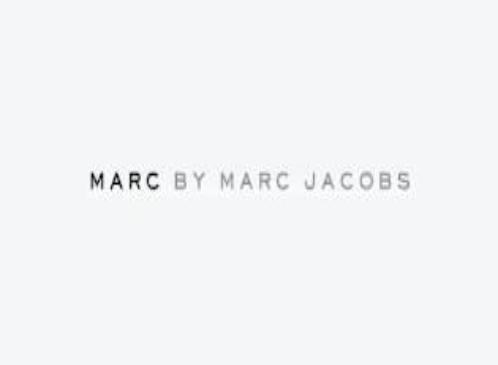MARC-JACOBS: (53, 149, 433, 224)
